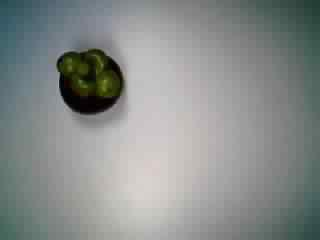mangosteen: (54, 44, 124, 118)
